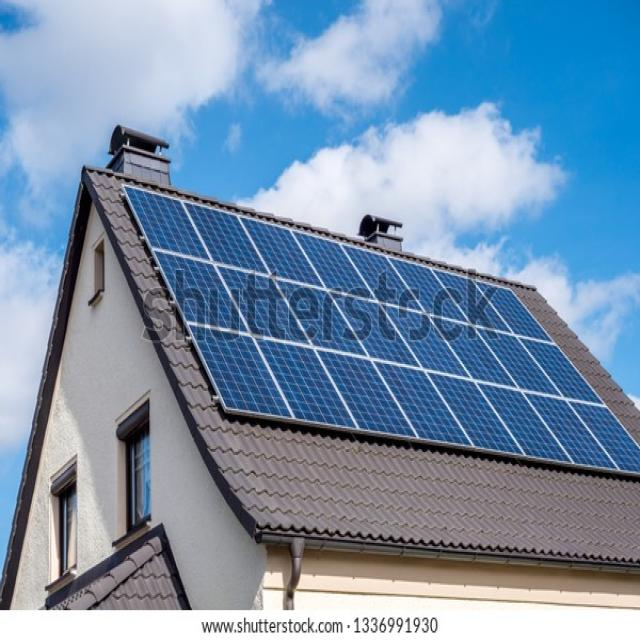clean-solar-panel: (126, 185, 640, 475)
